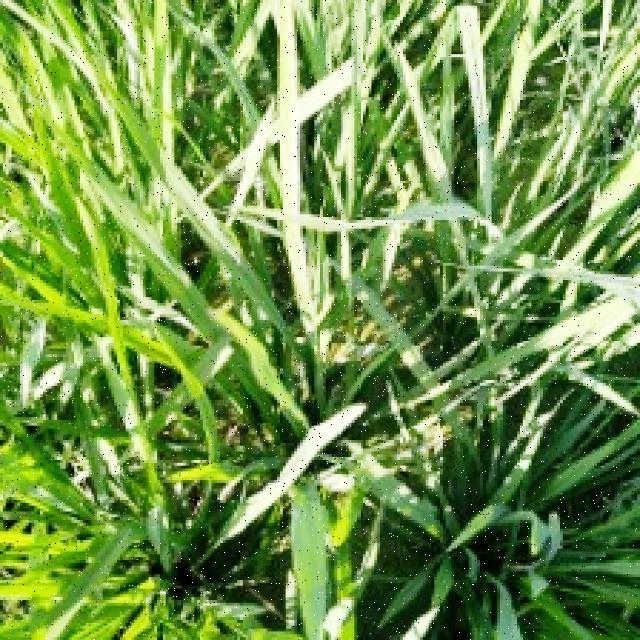health: (0, 0, 590, 603)
